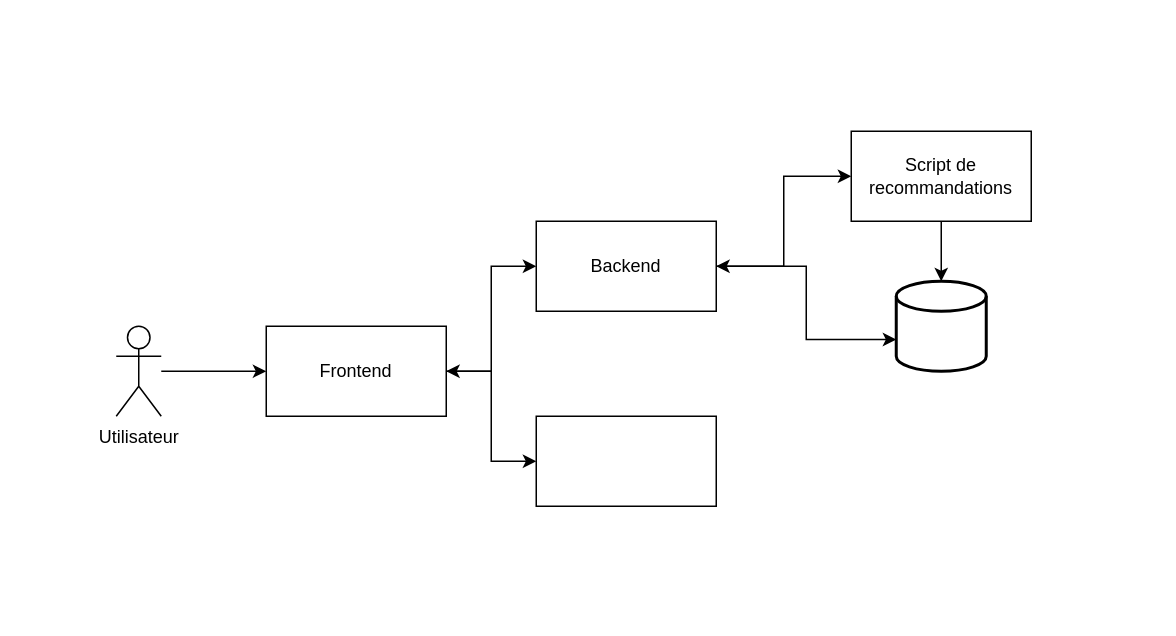
Image size: 1176x636. Some labels were removed from this diagram. Each missing label, with the centre of its shape:
API TMDB: point (625, 460)
BDD: point (940, 325)
